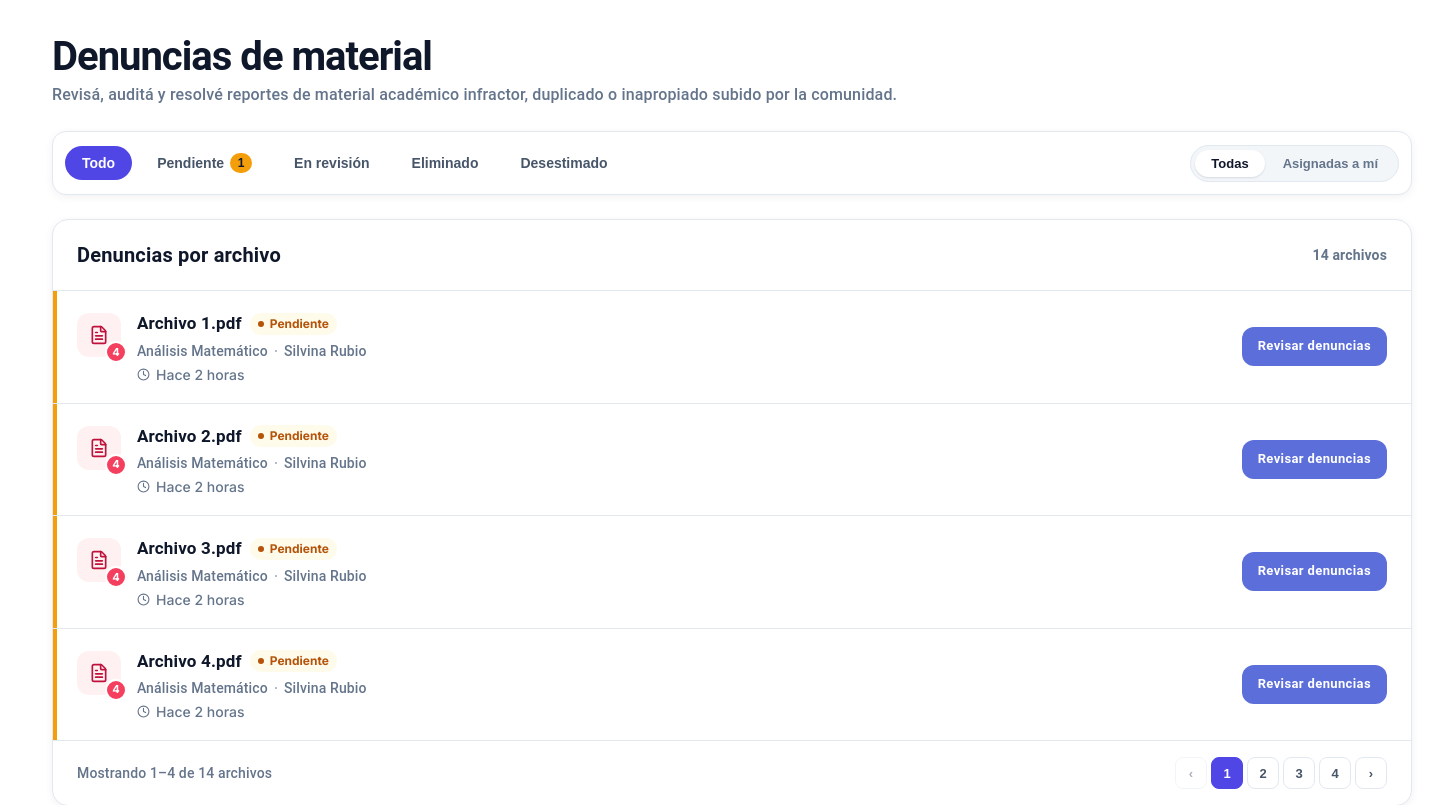
Test case: AdminMaterialReportsPage › cambia de página y lo refleja en la URL
This screenshot has width=1452, height=805.
Expected: the text "Archivo 1.pdf" is shown, top-left (137, 311), bottom-right (242, 336)
Click the button named "Página 2".
click(1263, 773)  # box top-left (1247, 757), bottom-right (1279, 789)
(page scrolled)
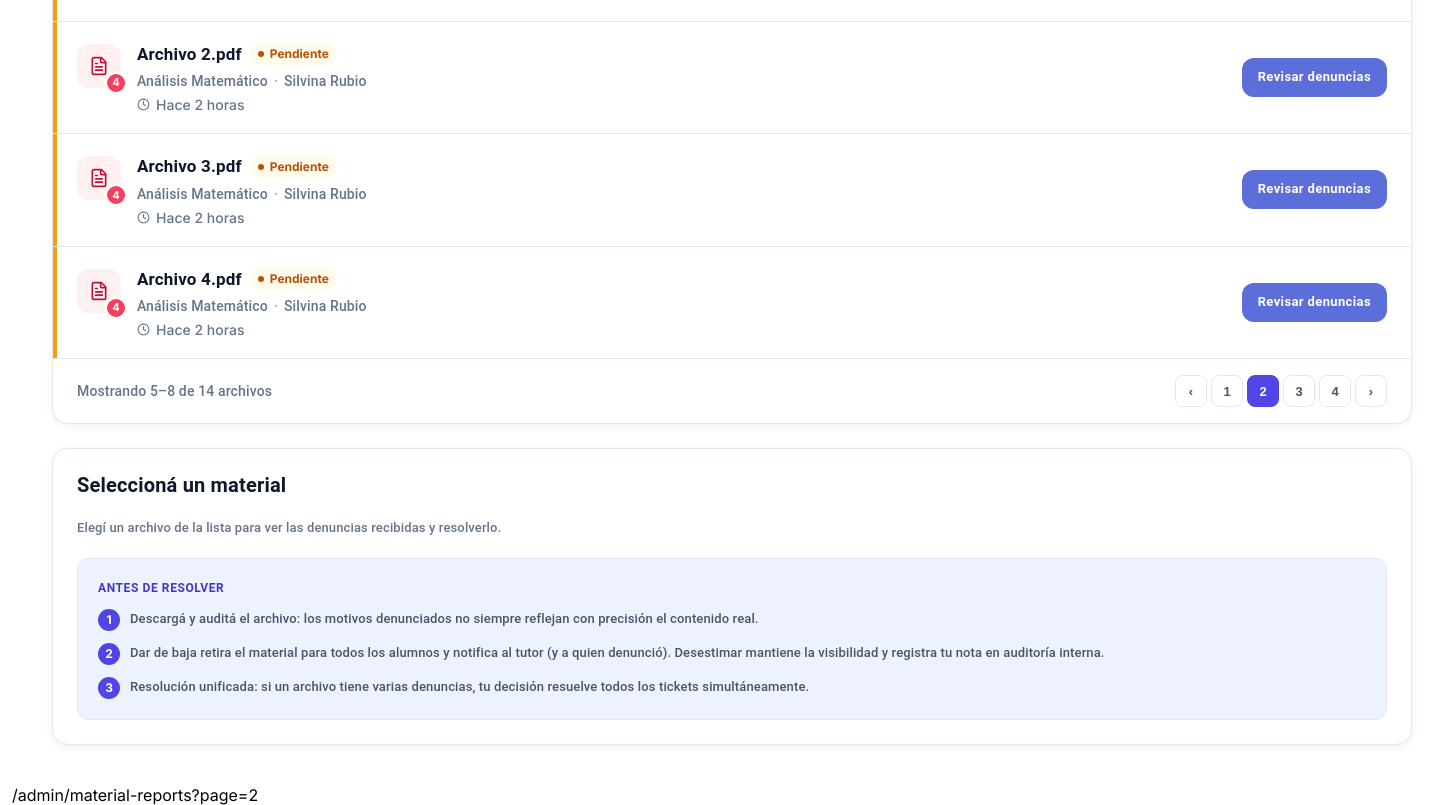
Expected: the text with test id "location" shows "page=2", top-left (12, 784), bottom-right (258, 804)
